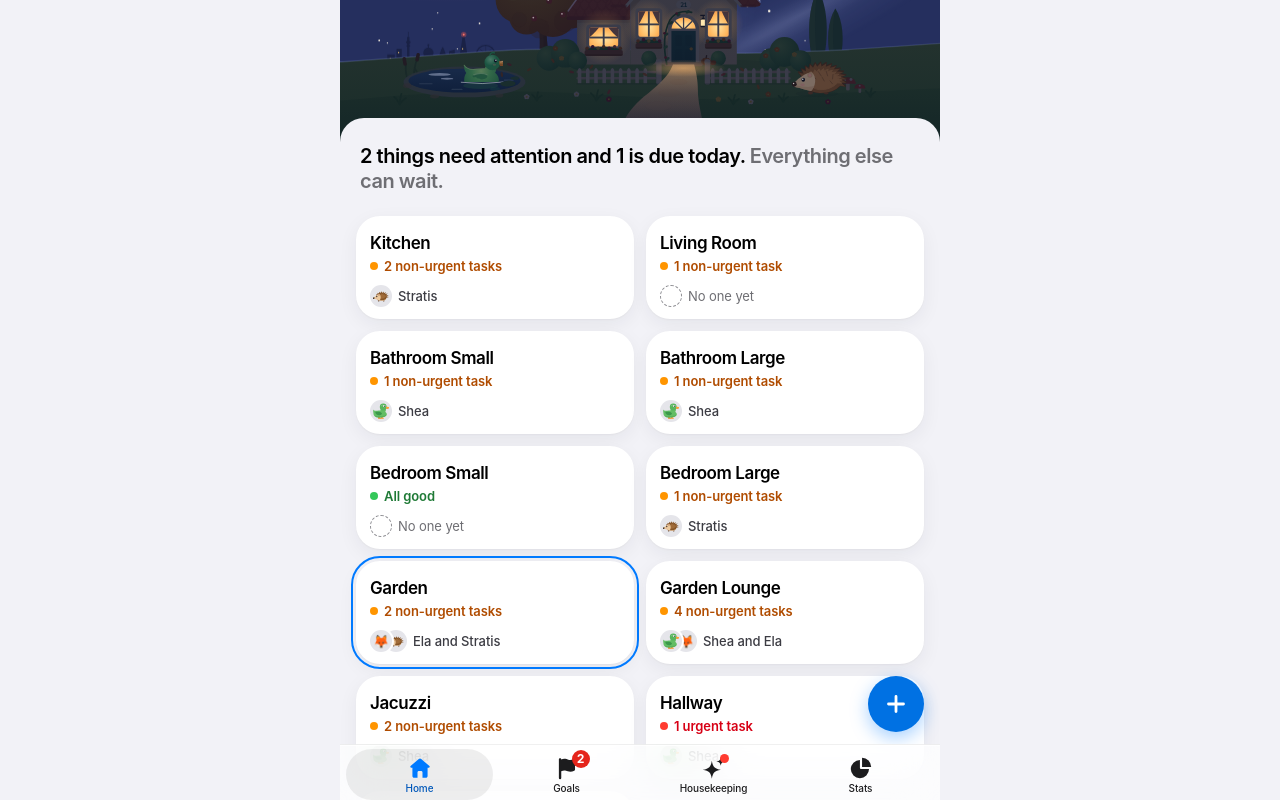
an area’s sheet › opens from its card over Home, which is pushed back and out of reach
(page scrolled)
Click the button "Garden 2 non-urgent tasks 🦊 Ela and Stratis" at (495, 612), box [356,561,634,664]
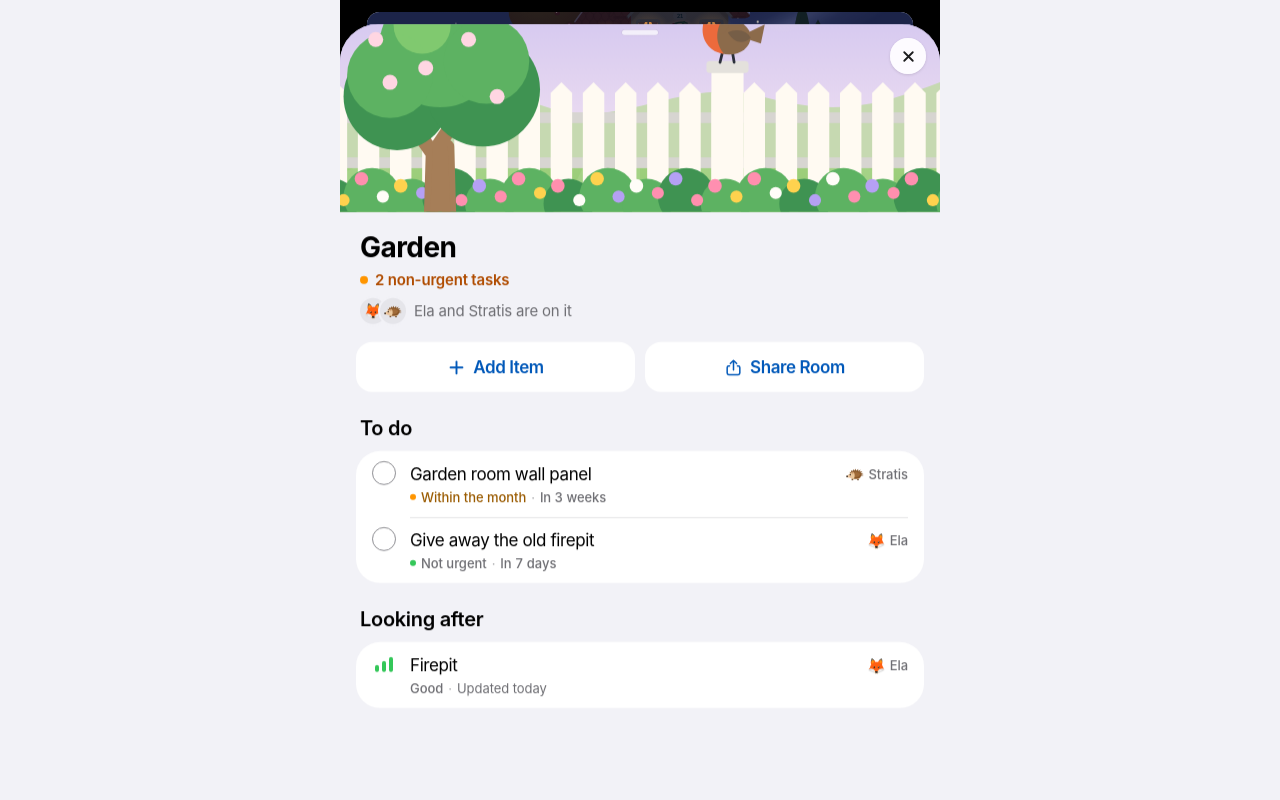
Now the heading "Garden" is shown, box [360,230,456,264]
